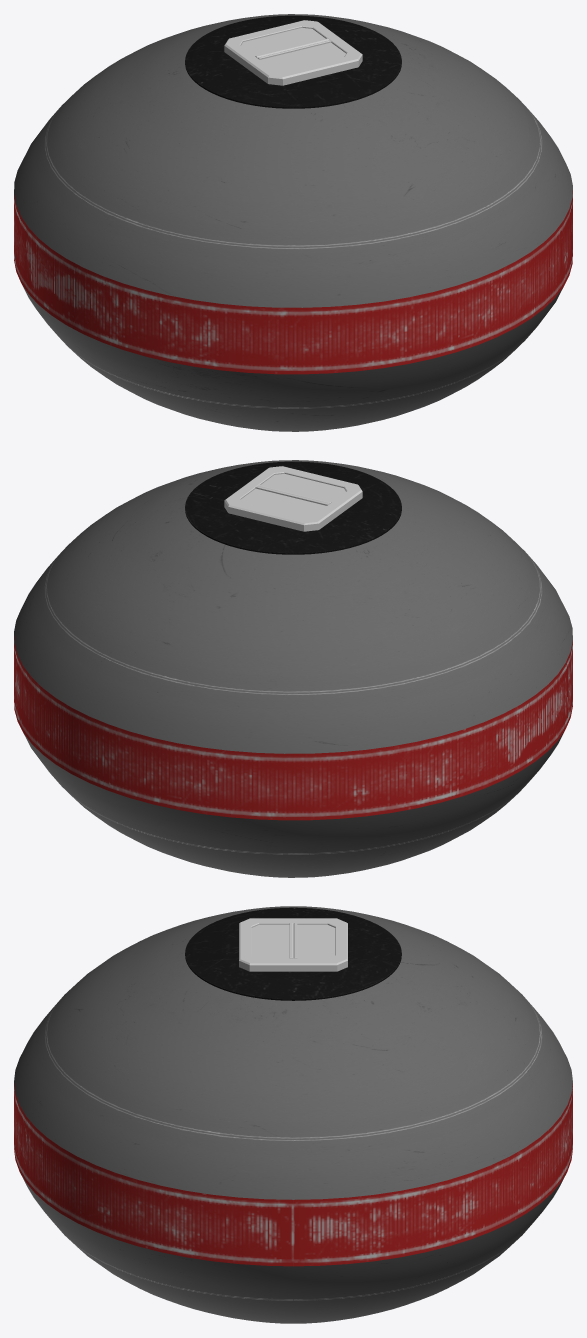
File: ccc3x3x2_0_Large.fbx
The picture shows the model from 3 angles, top to bottom: view 1: azimuth 30°, elevation 25°; view 2: azimuth 150°, elevation 25°; view 3: azimuth 270°, elevation 25°; orthographic projection.
Visible parts, largest first — view 1: ccc3x3x2_0_LOWPOLY, conveyorPort_v20170426; view 2: ccc3x3x2_0_LOWPOLY, conveyorPort_v20170426; view 3: ccc3x3x2_0_LOWPOLY, conveyorPort_v20170426.
Part boxes in pixels (x1,y1,x2,y2): ccc3x3x2_0_LOWPOLY: (14, 14, 572, 431); conveyorPort_v20170426: (224, 20, 362, 85); ccc3x3x2_0_LOWPOLY: (14, 460, 572, 877); conveyorPort_v20170426: (224, 466, 362, 531); ccc3x3x2_0_LOWPOLY: (14, 906, 572, 1323); conveyorPort_v20170426: (239, 918, 347, 971).
Size of the model in its own units: 7.39 by 5.1 by 7.39.
